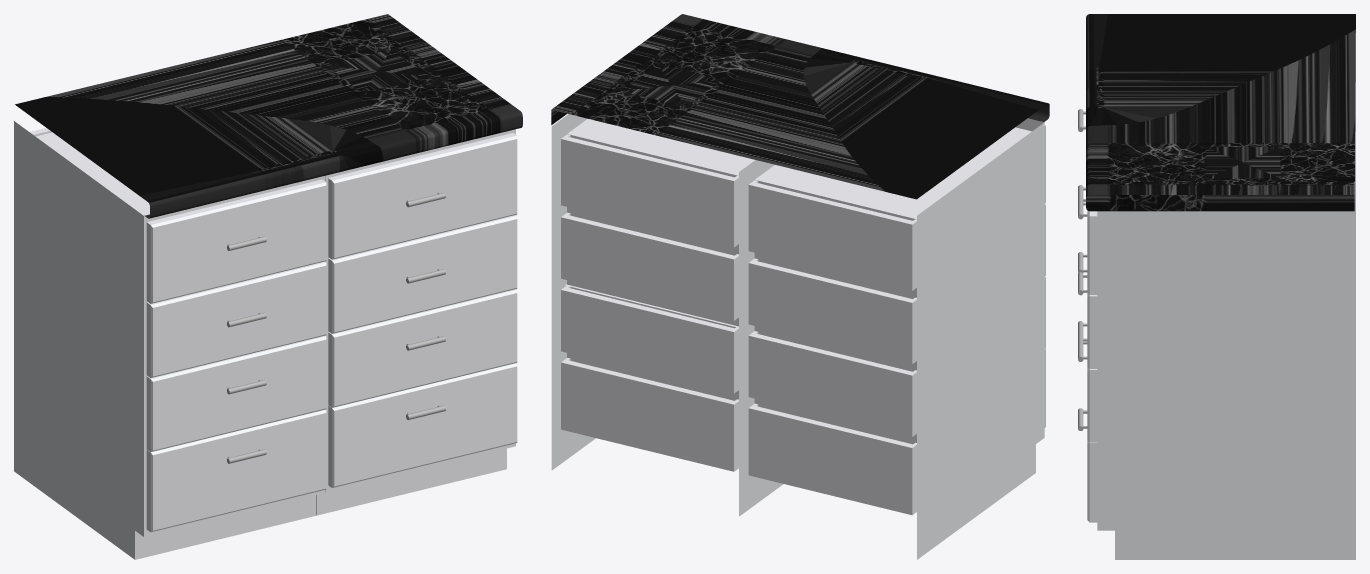
The model's file is side_piece.fbx.
The picture shows the model from 3 angles, left to right: view 1: azimuth 30°, elevation 25°; view 2: azimuth 150°, elevation 25°; view 3: azimuth 270°, elevation 25°; orthographic projection.
Visible parts, largest first — view 1: marble2, polySurface587, shelf_25, shelf_29, shelf_28, shelf_26, shelf_27, shelf_24, polySurface602, polySurface591, polySurface585; view 2: polySurface587, marble2, polySurface585, shelf_29, shelf_25, shelf_26, shelf_28, shelf_24, shelf_27, polySurface591, polySurface602; view 3: polySurface585, marble2, shelf_25, shelf_29, shelf_24, shelf_27.
Boxes of the visible parts, <box> form: marble2: <box>15,14,522,218</box>; polySurface587: <box>14,121,324,559</box>; shelf_25: <box>328,133,517,259</box>; shelf_29: <box>328,363,517,487</box>; shelf_28: <box>30,128,326,303</box>; shelf_26: <box>146,409,326,532</box>; shelf_27: <box>328,215,517,333</box>; shelf_24: <box>328,289,517,407</box>; polySurface602: <box>146,261,326,377</box>; polySurface591: <box>146,335,326,451</box>; polySurface585: <box>316,129,515,515</box>; polySurface587: <box>739,118,1044,559</box>; marble2: <box>551,14,1049,199</box>; polySurface585: <box>551,114,755,515</box>; shelf_29: <box>561,358,738,471</box>; shelf_25: <box>561,134,738,247</box>; shelf_26: <box>748,349,1045,515</box>; shelf_28: <box>748,125,1045,290</box>; shelf_24: <box>561,286,738,393</box>; shelf_27: <box>561,212,738,320</box>; polySurface591: <box>748,277,1045,436</box>; polySurface602: <box>748,204,1045,364</box>; polySurface585: <box>1097,118,1355,559</box>; marble2: <box>1086,14,1355,211</box>; shelf_25: <box>1078,196,1097,294</box>; shelf_29: <box>1078,408,1097,522</box>; shelf_24: <box>1078,339,1097,442</box>; shelf_27: <box>1078,272,1097,368</box>.
Bounding box in the file's own units: 95.81 × 90 × 62.04.
3 materials, 3 textured.
